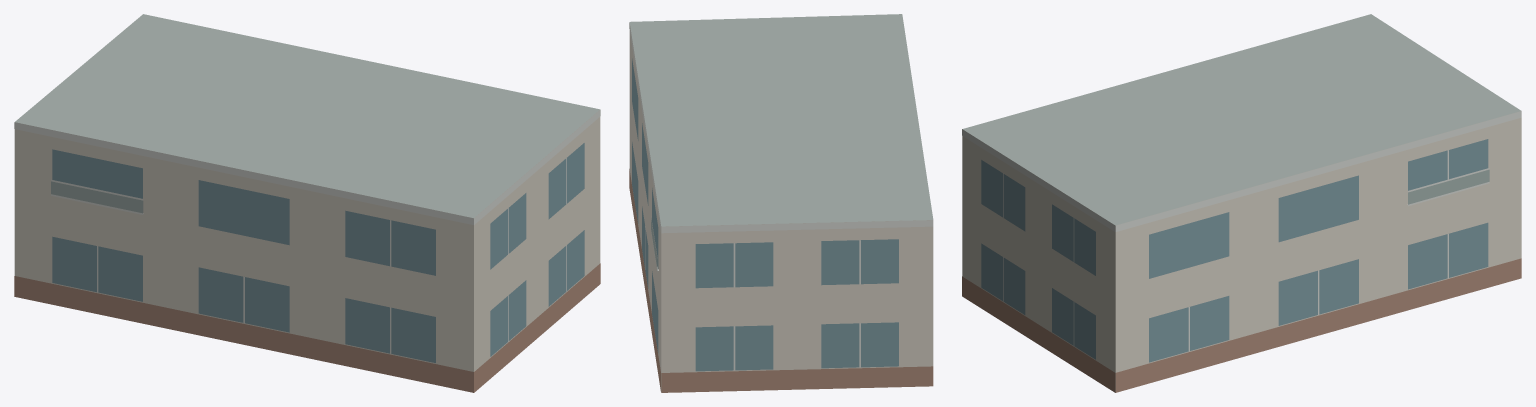
Rendered from survey-upis-32793378.glb.
The picture shows the model from 3 angles, left to right: view 1: azimuth 30°, elevation 25°; view 2: azimuth 150°, elevation 25°; view 3: azimuth 270°, elevation 25°; orthographic projection. The views are drawn at different scales.
Parts seen in each view (by area): view 1: survey-upis-32793378.tmp; view 2: survey-upis-32793378.tmp; view 3: survey-upis-32793378.tmp.
Part boxes in pixels (bbox=[...]): survey-upis-32793378.tmp: bbox=[14, 14, 600, 392]; survey-upis-32793378.tmp: bbox=[629, 14, 933, 392]; survey-upis-32793378.tmp: bbox=[962, 14, 1521, 392].
Size of the model in its own units: 16.55 by 6.1 by 18.49.
